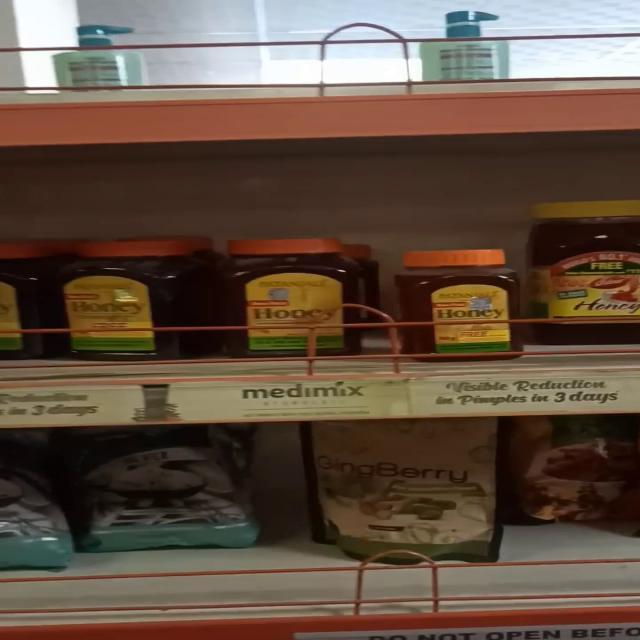Dabur Honey: (536, 200, 640, 345)
Patanjali Honey: (68, 233, 216, 355), (225, 232, 359, 361), (386, 247, 530, 361)
